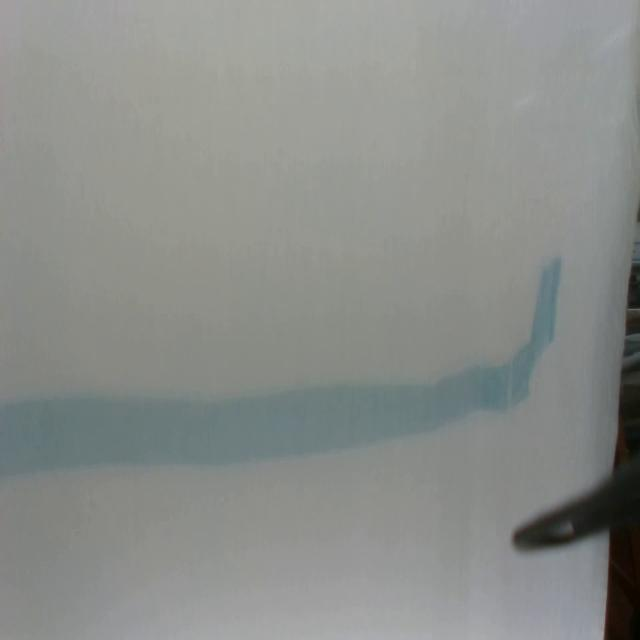color bleeding: (0, 256, 564, 486)
